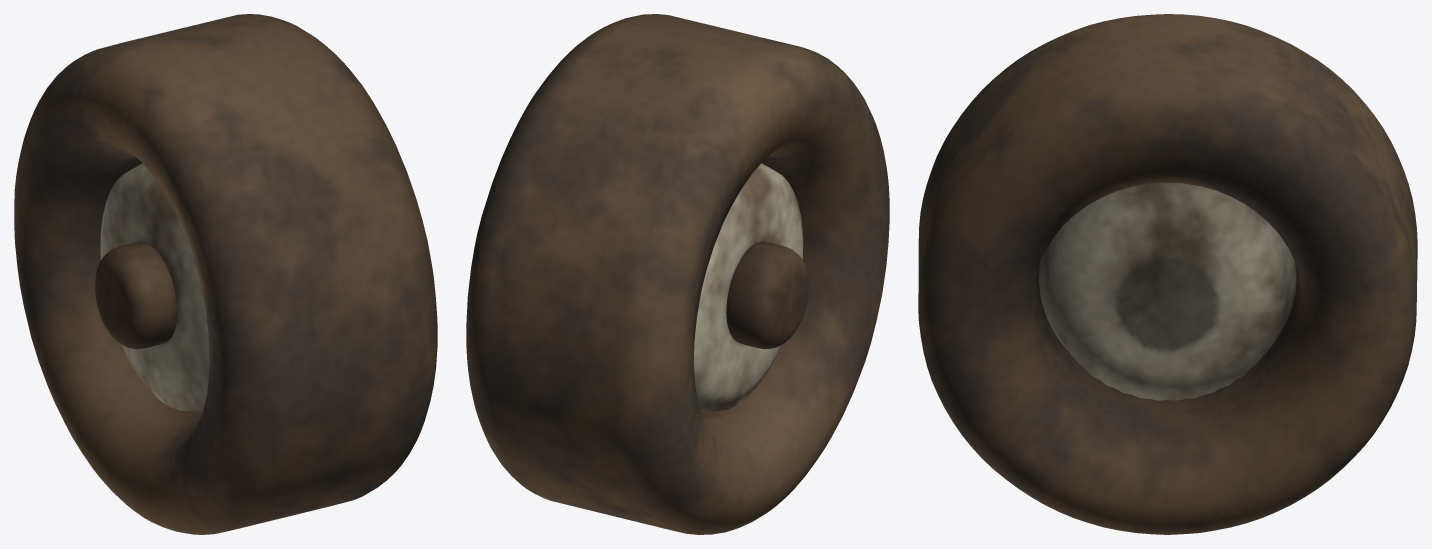
The picture shows the model from 3 angles, left to right: view 1: azimuth 30°, elevation 25°; view 2: azimuth 150°, elevation 25°; view 3: azimuth 270°, elevation 25°; orthographic projection.
Visible parts, largest first — view 1: wheel_RR; view 2: wheel_RR; view 3: wheel_RR.
Boxes of the visible parts, box(x1,y1,x2,y2) form: wheel_RR: box(14, 14, 437, 534); wheel_RR: box(466, 14, 889, 534); wheel_RR: box(918, 14, 1417, 534).
Size of the model in its own units: 0.1655 by 0.3293 by 0.3293.
Materials: 1 (1 with a texture image).
